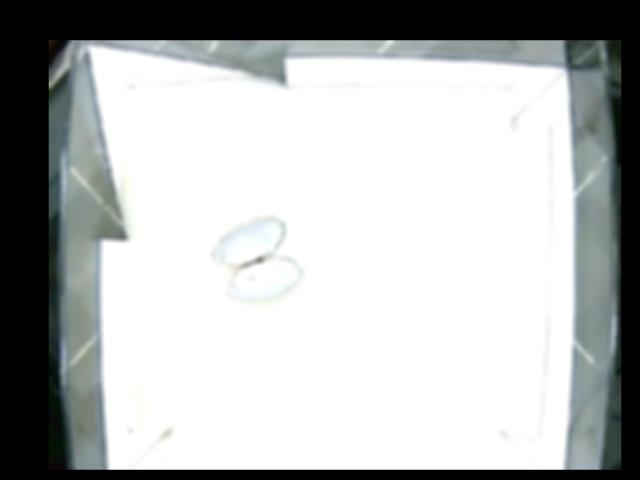Shell: (211, 216, 300, 302)
